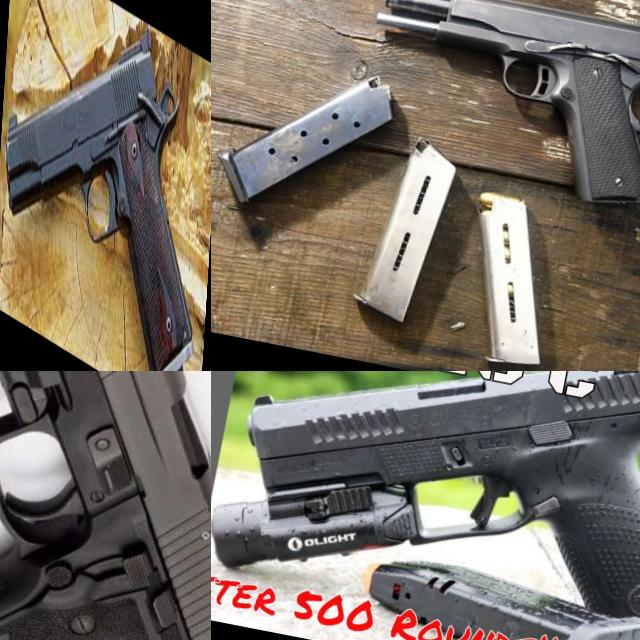handgun: (212, 371, 640, 640), (0, 0, 211, 371), (343, 0, 640, 227), (0, 371, 211, 640)
